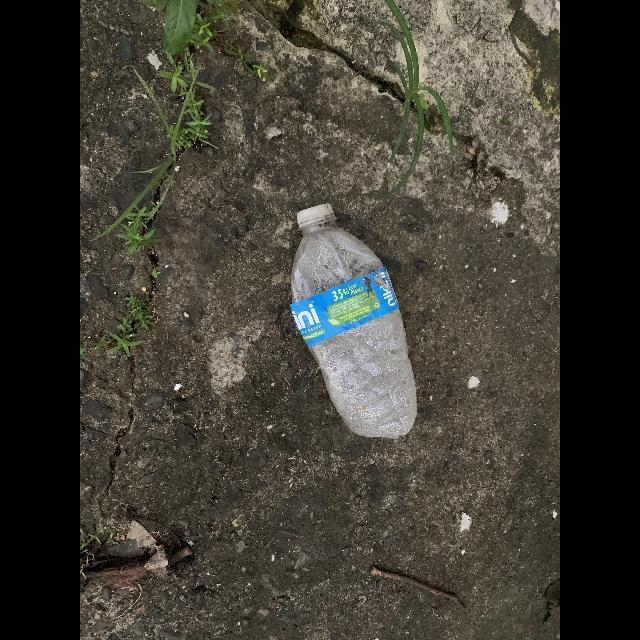Plastic: (291, 204, 417, 438), (296, 203, 334, 224)
